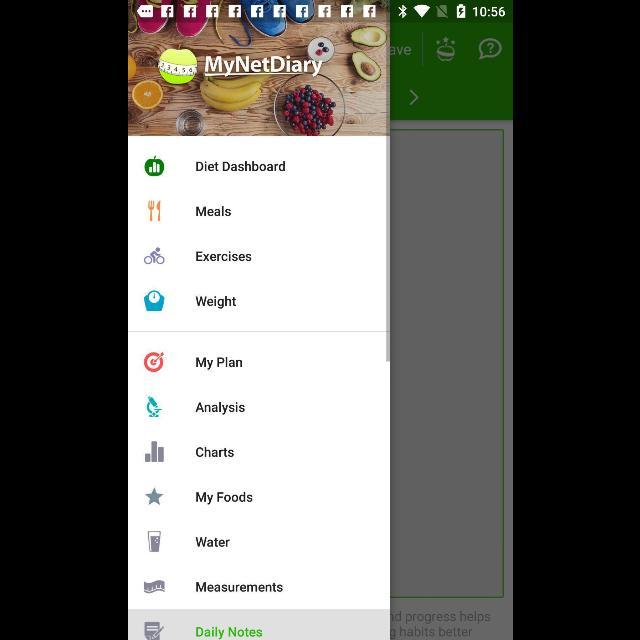icon: (144, 442, 164, 462), (144, 622, 164, 640), (145, 487, 163, 505)
image: (128, 23, 388, 136), (204, 55, 322, 77), (142, 290, 164, 312), (144, 156, 164, 177), (144, 352, 164, 372), (145, 397, 161, 418), (144, 248, 164, 264), (146, 200, 160, 222), (144, 580, 164, 594), (148, 532, 160, 552)
panel: (128, 24, 388, 640)
text: (195, 160, 285, 172), (195, 581, 282, 593), (194, 626, 262, 640), (194, 490, 252, 506), (194, 401, 244, 415), (194, 250, 252, 262), (194, 356, 242, 370), (194, 296, 236, 308), (194, 446, 233, 458), (194, 204, 230, 216), (193, 536, 229, 548)
uppertaskbar: (128, 1, 512, 23)
